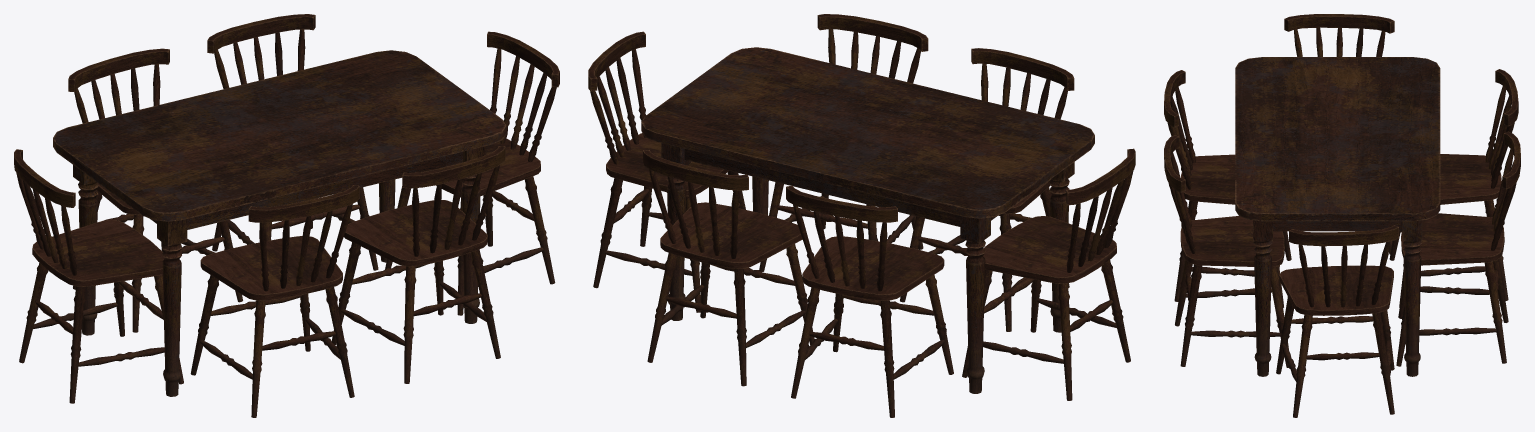
Rendered from table_and_chairs.glb.
3 renders of one model, left to right at view 1: azimuth 30°, elevation 25°; view 2: azimuth 150°, elevation 25°; view 3: azimuth 270°, elevation 25°, orthographic. The views are drawn at different scales.
Visible parts, largest first — view 1: Table, Chair.004, Chair.005, Chair.003, Chair, Chair.002, Chair.001; view 2: Table, Chair.002, Chair.001, Chair.003, Chair, Chair.004, Chair.005; view 3: Table, Chair, Chair.001, Chair.005, Chair.002, Chair.004, Chair.003.
Part boxes in pixels (x1,y1,x2,y2): Table: (53,50,506,396); Chair.004: (190,185,359,417); Chair.005: (331,146,505,383); Chair.003: (14,149,183,403); Chair: (385,31,559,315); Chair.002: (68,48,242,332); Chair.001: (207,14,378,270); Table: (641,47,1094,393); Chair.002: (786,185,953,417); Chair.001: (643,150,814,386); Chair.003: (962,148,1135,400); Chair: (588,31,745,312); Chair.004: (900,48,1074,331); Chair.005: (759,14,928,271); Table: (1235,57,1440,376); Chair: (1276,225,1398,417); Chair.001: (1396,131,1520,366); Chair.005: (1164,135,1288,367); Chair.002: (1389,69,1518,307); Chair.004: (1164,70,1291,307); Chair.003: (1284,14,1394,254).
Size of the model in its own units: 2.13 by 0.8456 by 1.45.
2 materials, 2 textured.
